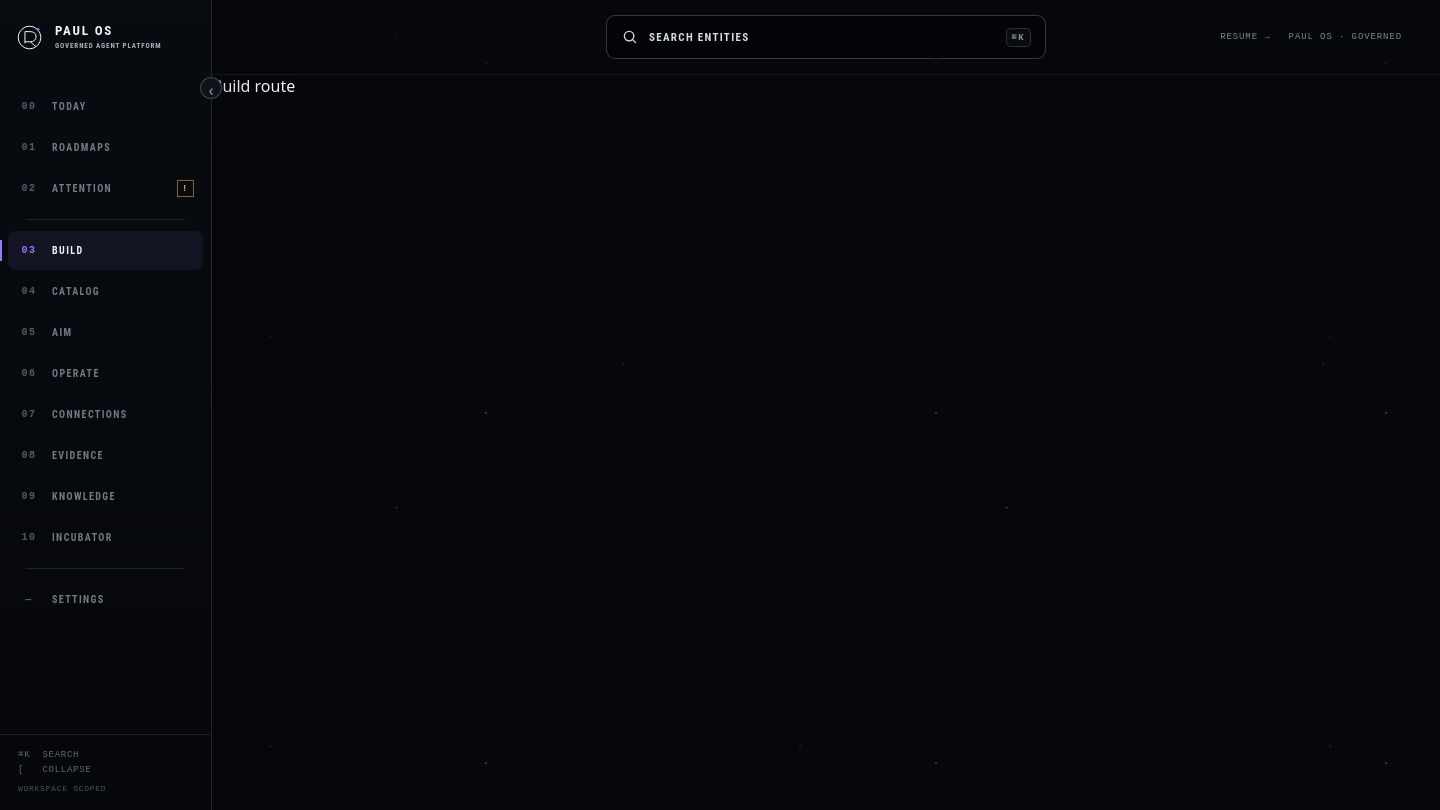
Test: Paul OS platform shell › preserves an in-progress Build route while browsing non-working surfaces
Click the 5th link named "CATALOG". click: (61, 292)
box: left=22, top=286, right=100, bottom=297
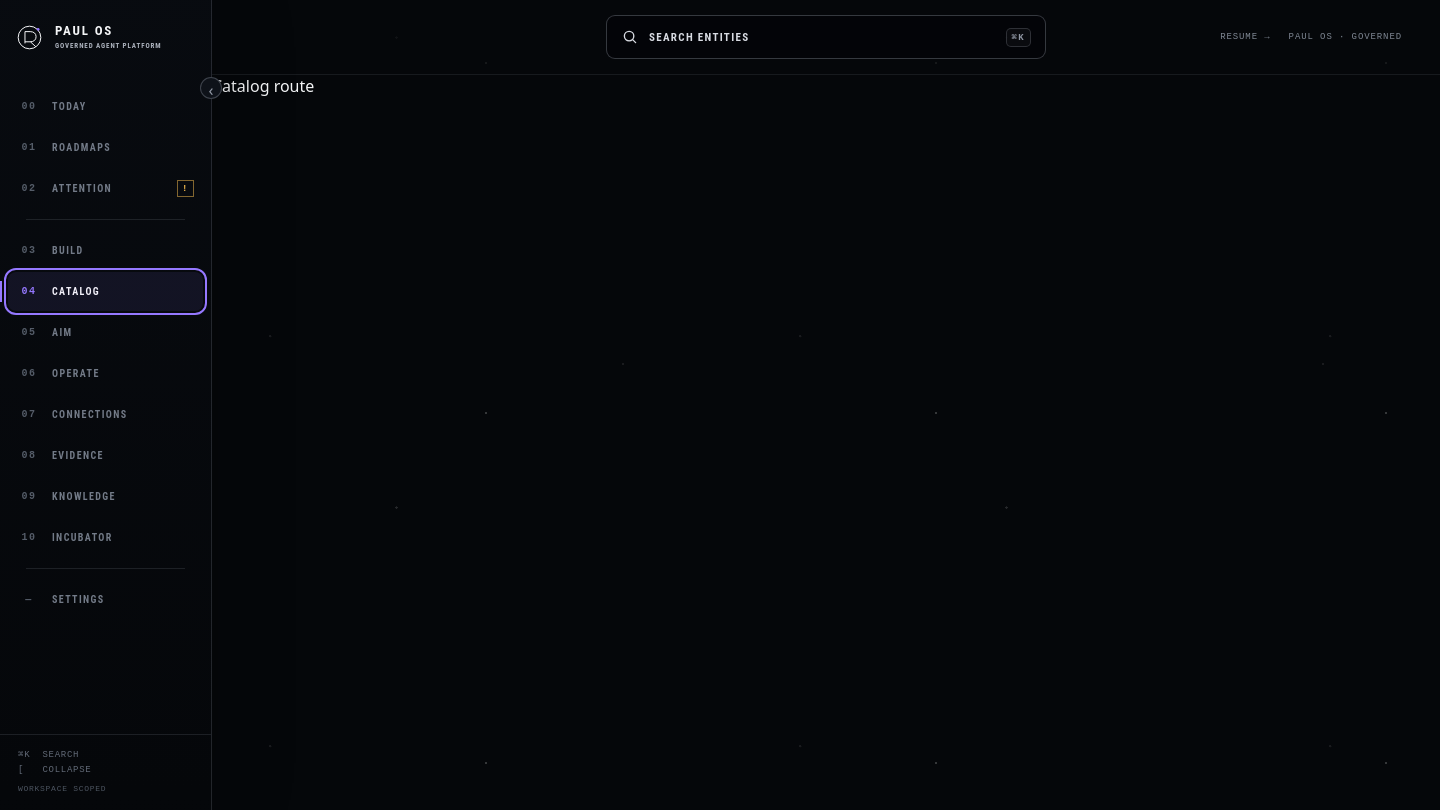
Expected: the text "Catalog route" is shown, left=212, top=75, right=314, bottom=97
